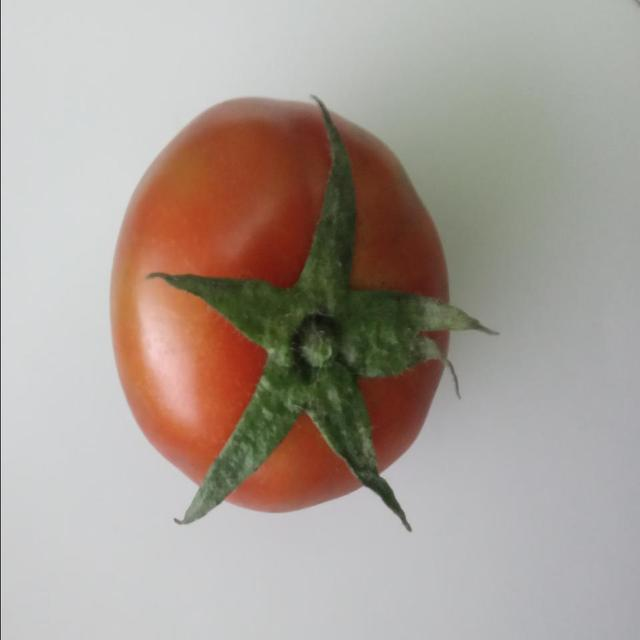Healthy Fruit: (62, 57, 311, 348)
